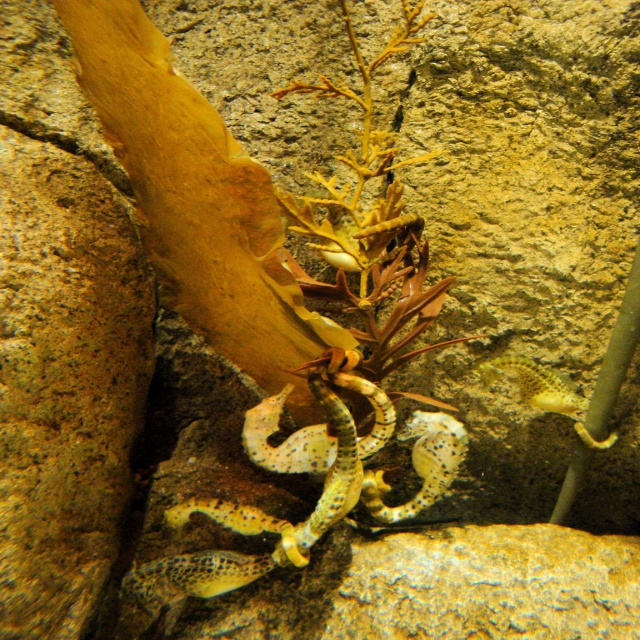Snake: (122, 370, 396, 614)
